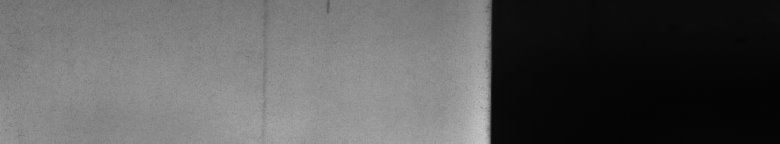ib: (263, 4, 332, 92)
